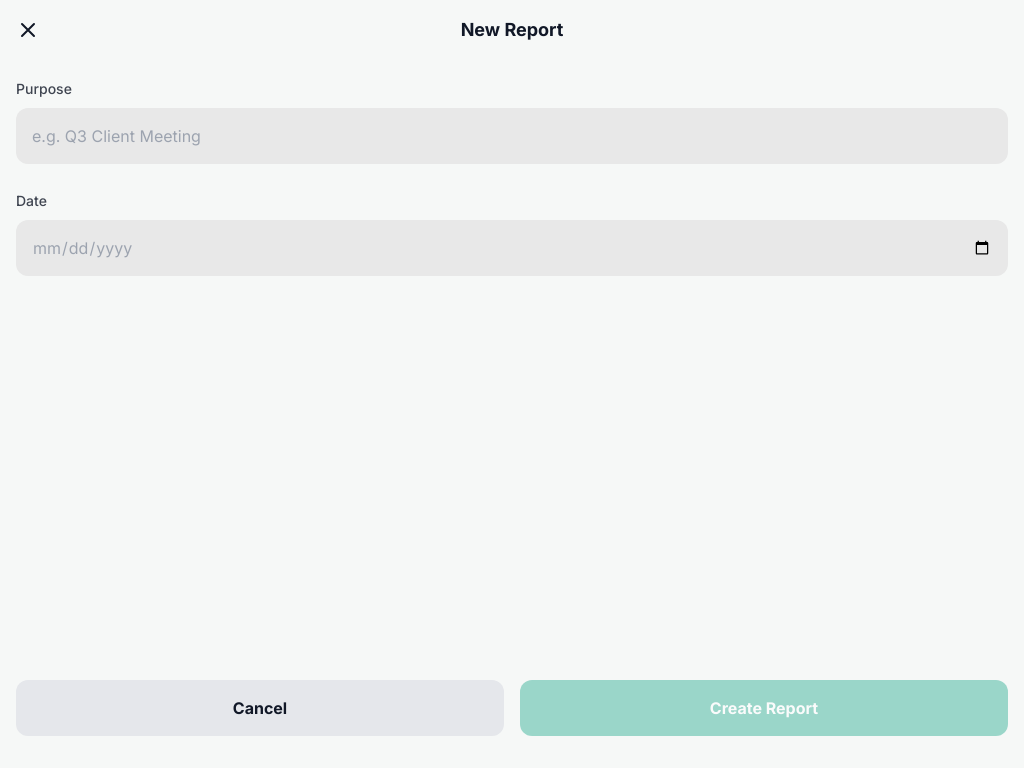
Scenario: NewReportPage › should enable Create Report button when both fields are filled
Type "Test Report" into the field labelled "Purpose" at (512, 136), box top-left (16, 108), bottom-right (1008, 164)
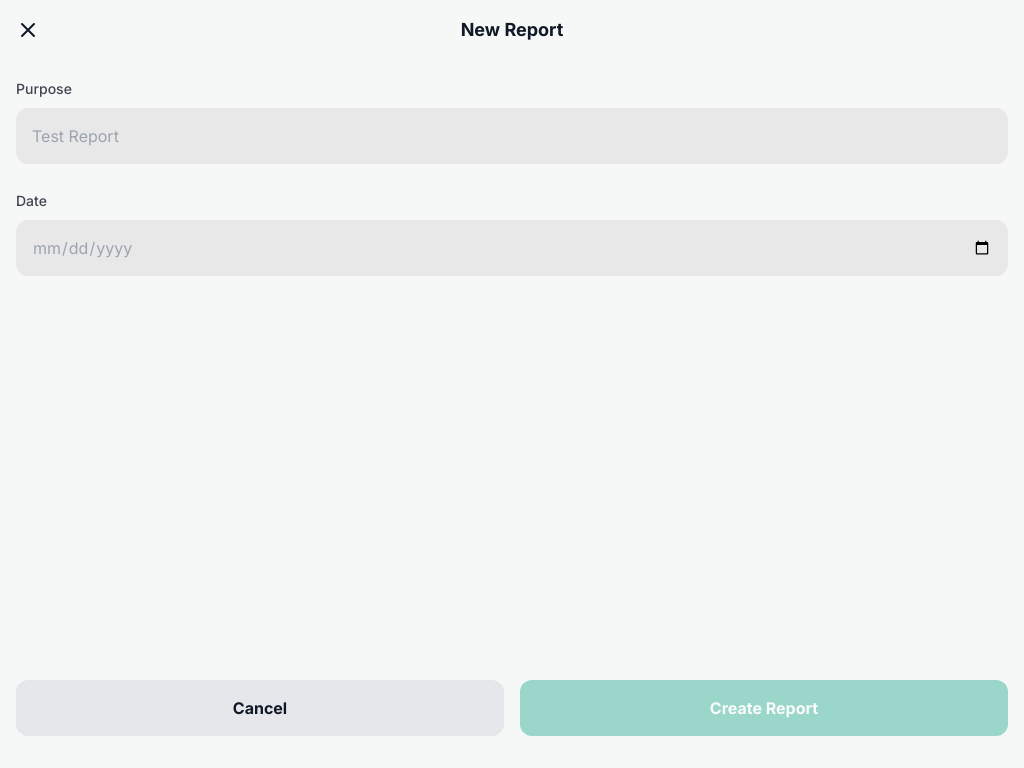
Type "2026-01-15" into the date field labelled "Date" at (512, 248), box top-left (16, 220), bottom-right (1008, 276)
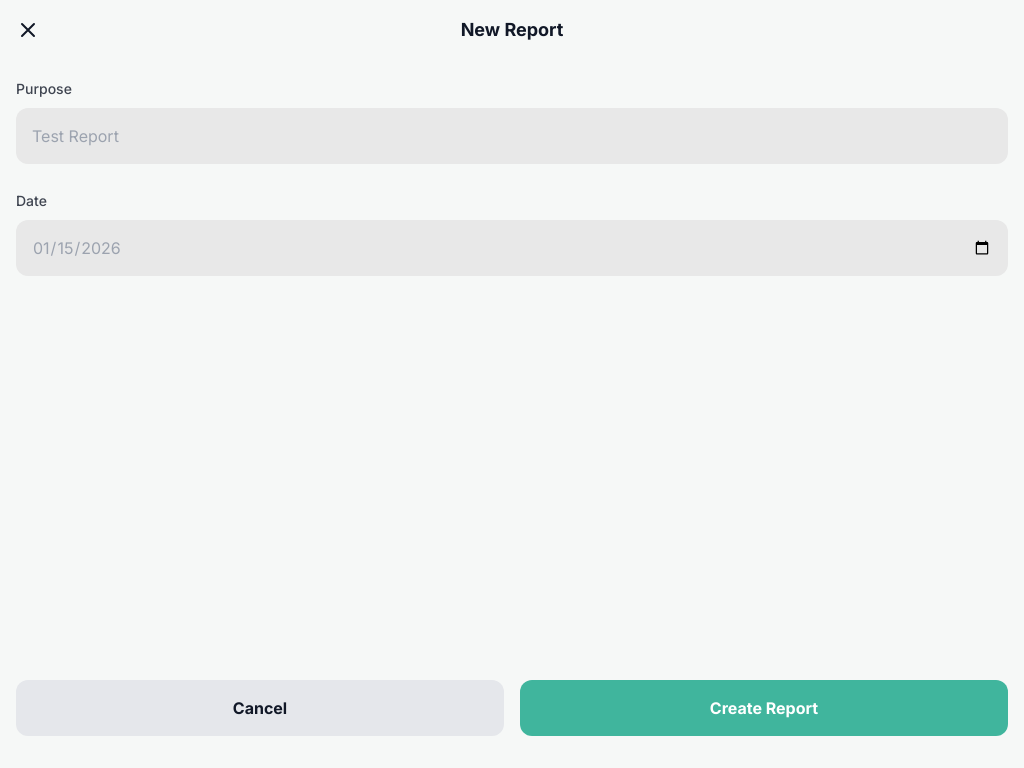
Now the button "Create Report" is enabled, box top-left (520, 680), bottom-right (1008, 736)
